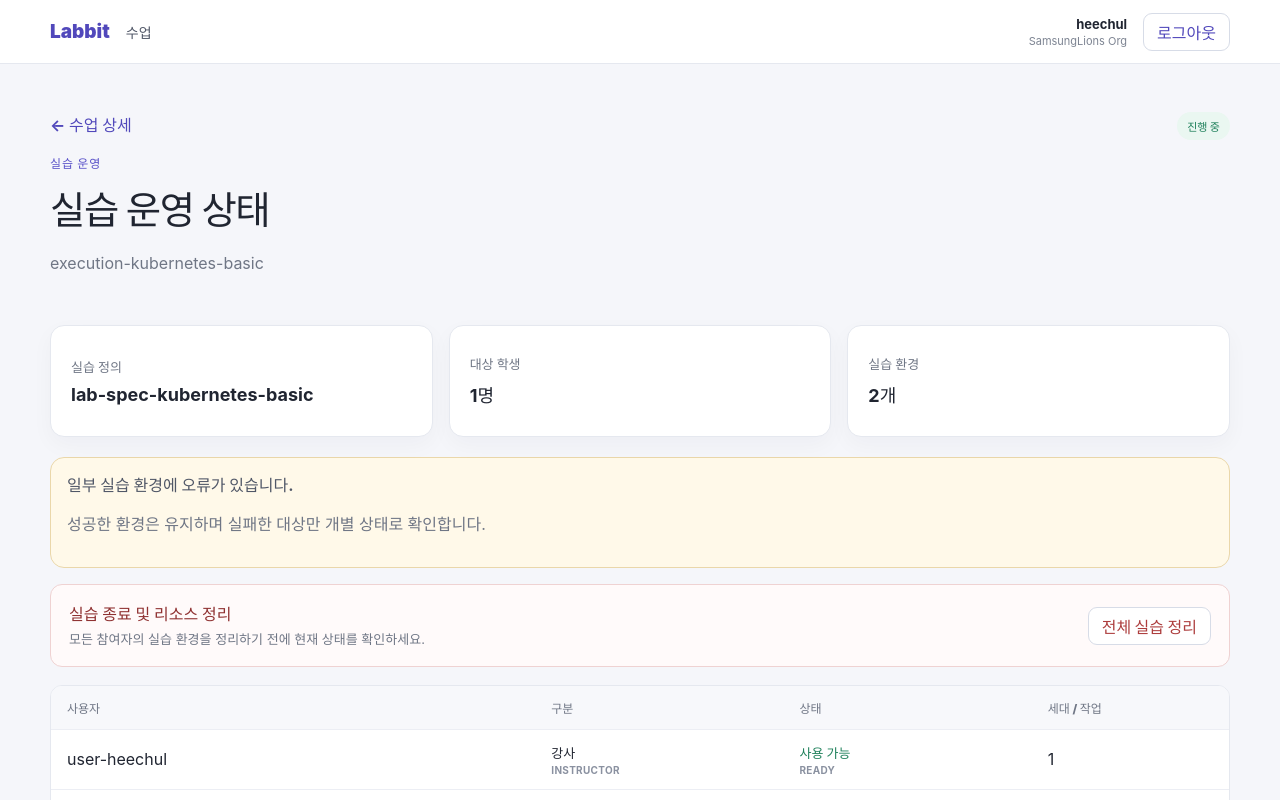
Scenario: Auth·Class·LabSpec routing › Cleanup 422는 Reset 재현 오류 문구로 표시하지 않는다
This screenshot has width=1280, height=800.
Expected: the heading "실습 운영 상태" is shown, [50,179,269,235]
What coordinates should you click on to do the following:
click the button "전체 실습 정리"
I would click on:
 (1149, 626)
Its box is [1088,607,1211,645].
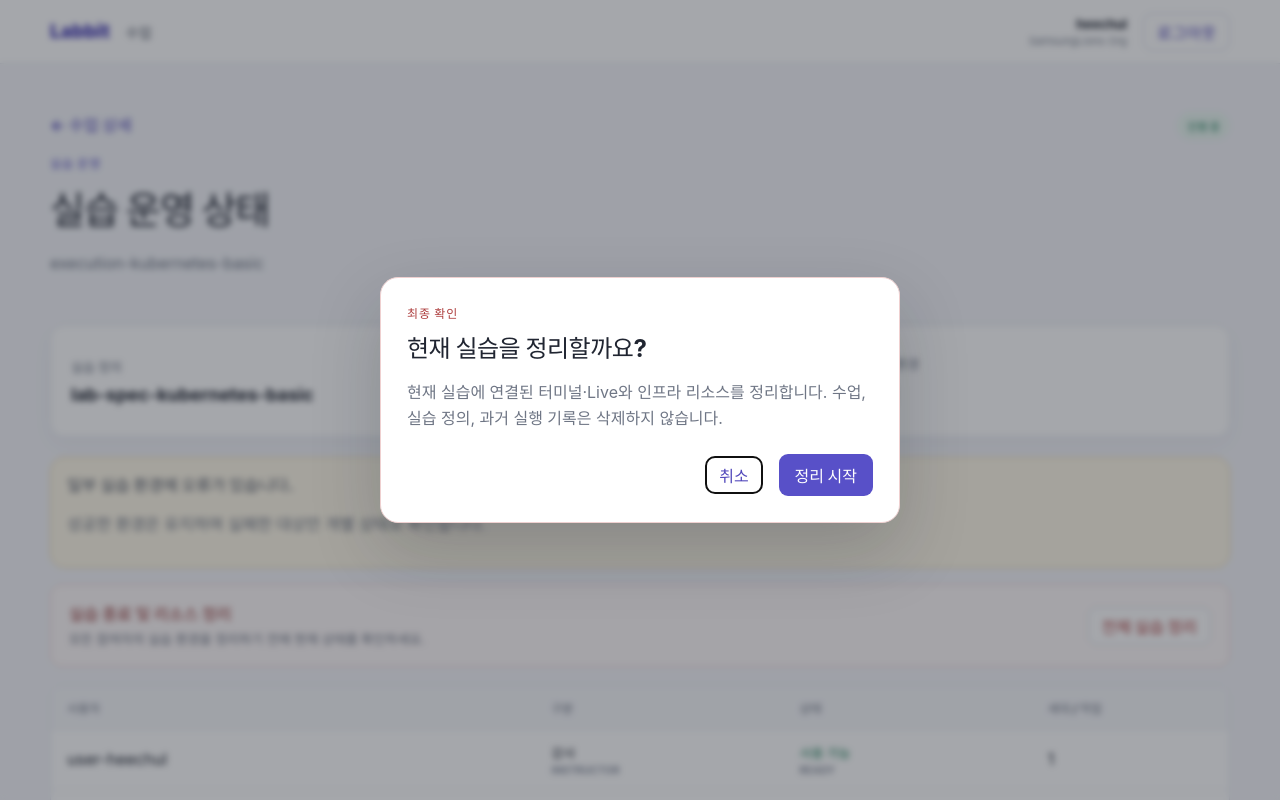
What coordinates should you click on to do the following:
click the button "정리 시작"
I would click on:
 (826, 475)
Its box is [779,454,873,496].
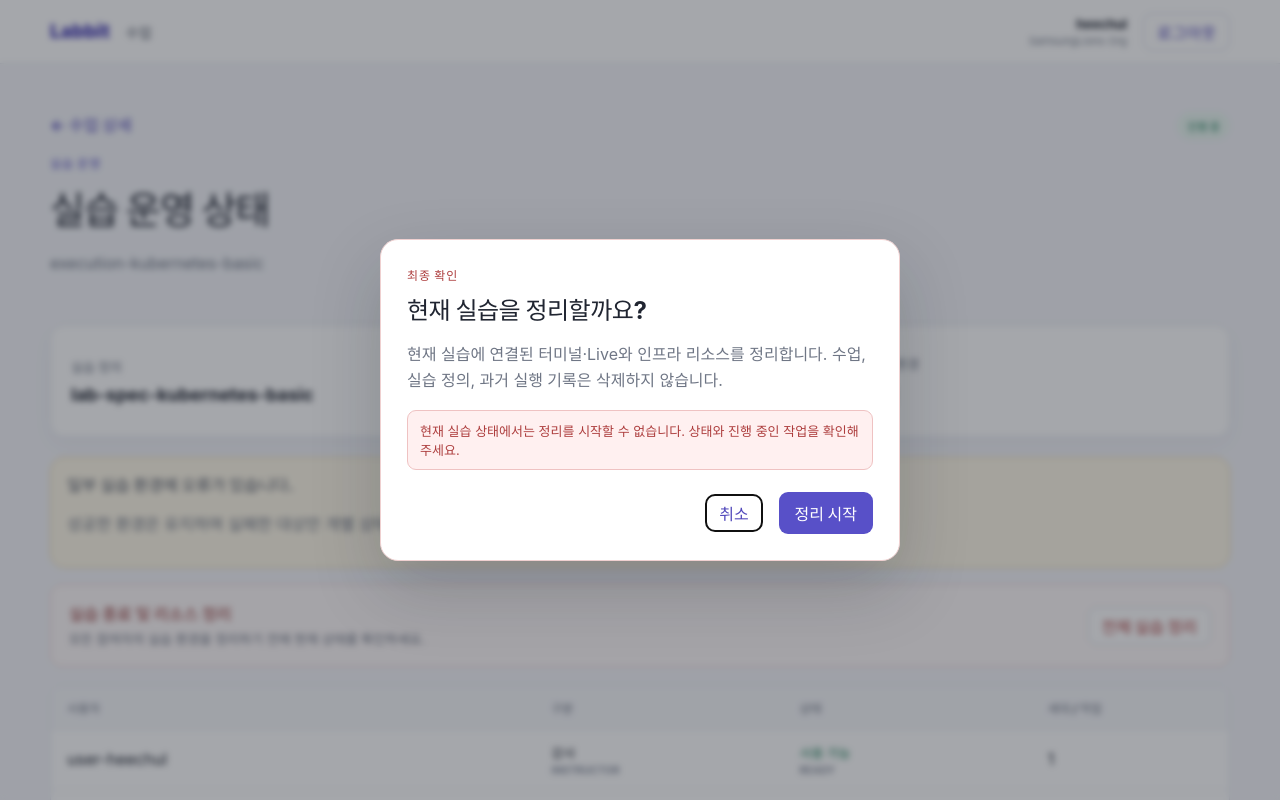
Result: the text "현재 실습 상태에서는 정리를 시작할 수 없습니다. 상태와 진행 중인 작업을 확인해 주세요." is shown at [407,410,873,470]
